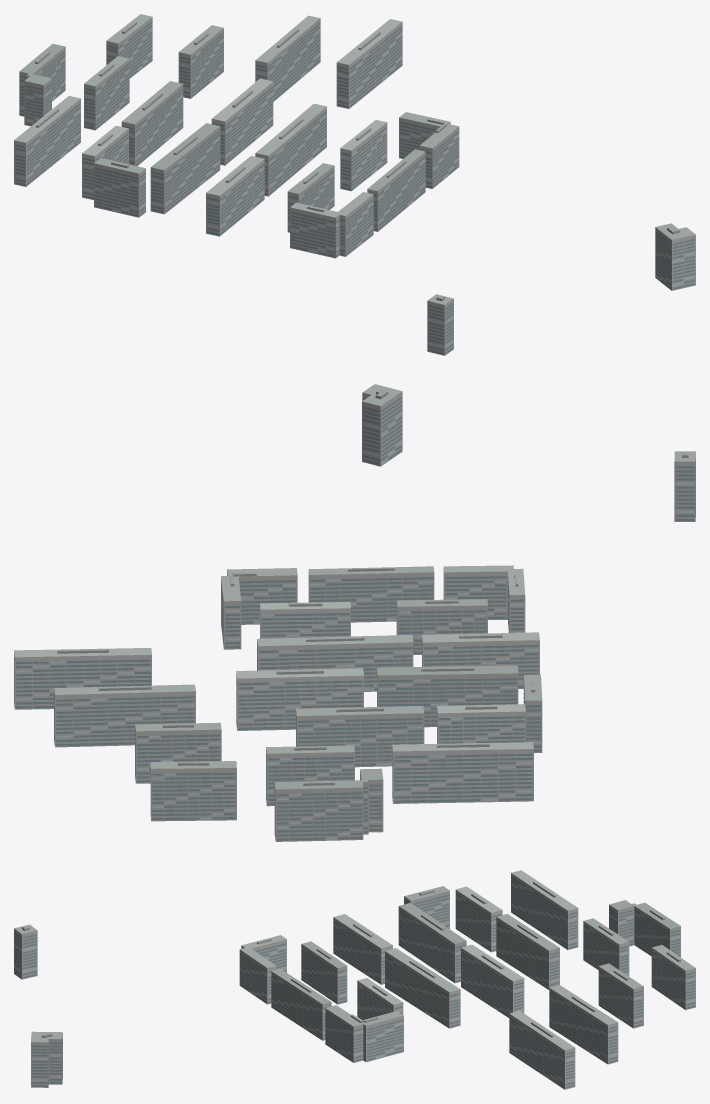
File: apt-a13511004.glb
3 views of the same model, one above another, from view 1: azimuth 30°, elevation 25°; view 2: azimuth 150°, elevation 25°; view 3: azimuth 270°, elevation 25° (orthographic). The views are drawn at different scales.
Visible parts, largest first — view 1: apt-a13511004; view 2: apt-a13511004; view 3: apt-a13511004.
Boxes of the visible parts, x1,y1,x2,y2 form: apt-a13511004: [14, 14, 695, 355]; apt-a13511004: [14, 384, 695, 841]; apt-a13511004: [14, 870, 695, 1089].
Bounding box in the file's own units: 388 × 47.81 × 621.
